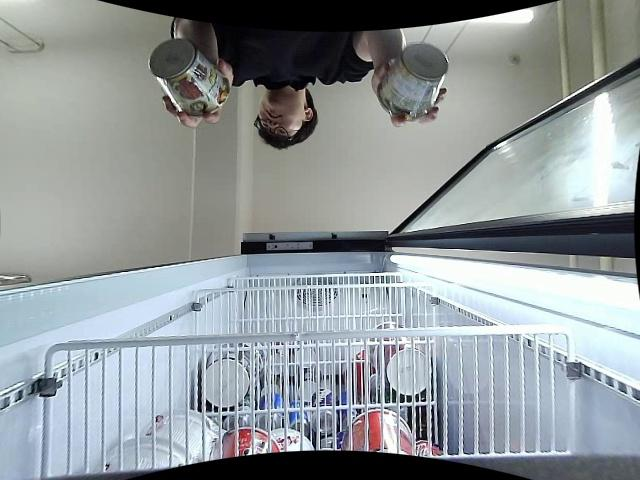00_hand: (371, 57, 447, 128), (163, 61, 233, 127)
04_chapagetti_S: (147, 38, 229, 117), (379, 43, 449, 118)
